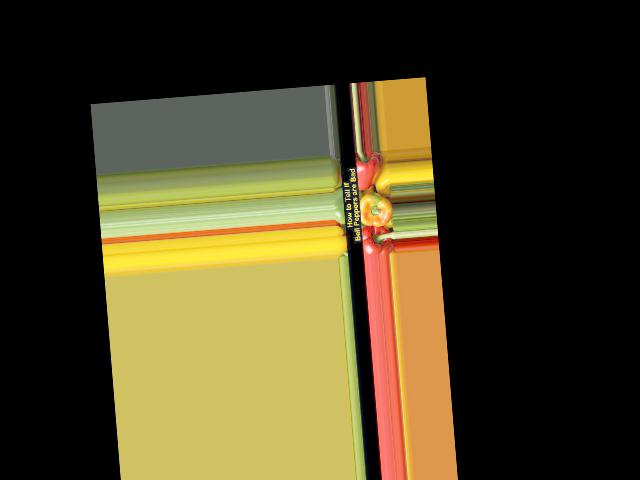bell_pepper: (359, 222, 396, 255)
